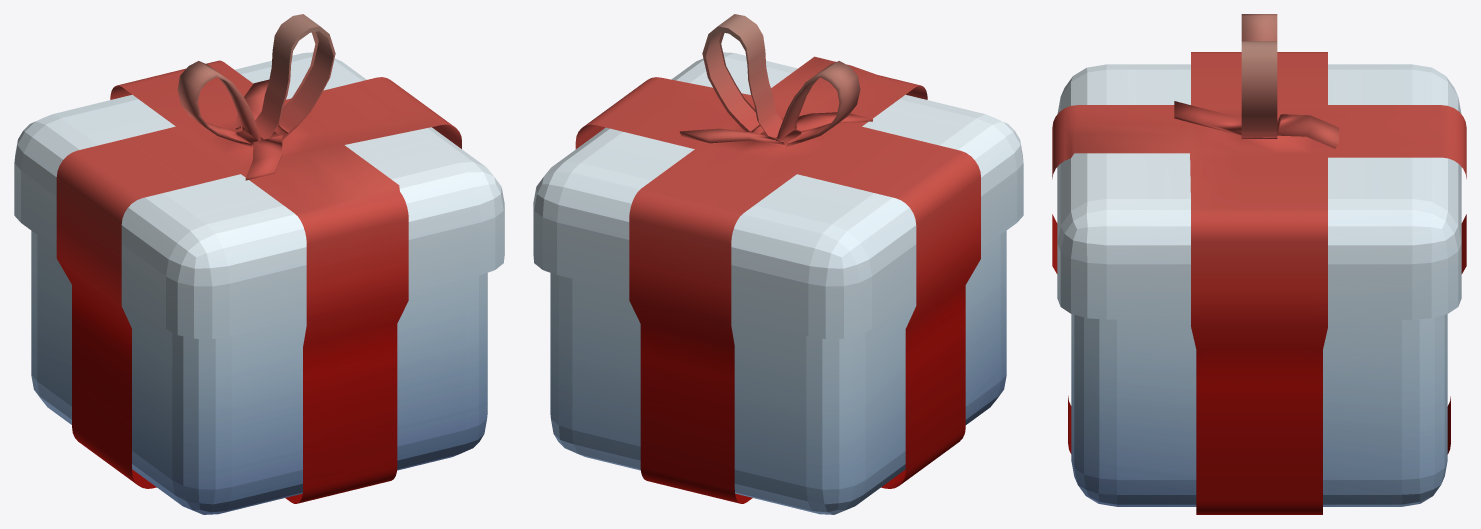
File: Geschenk_1.fbx
3 renders of one model, left to right at view 1: azimuth 30°, elevation 25°; view 2: azimuth 150°, elevation 25°; view 3: azimuth 270°, elevation 25°, orthographic. The views are drawn at different scales.
Visible parts, largest first — view 1: line; view 2: line; view 3: line.
Part boxes in pixels (box(x1,y1,x2,y2)): line: box(14, 14, 504, 514); line: box(533, 14, 1023, 514); line: box(1052, 14, 1466, 514).
Size of the model in its own units: 220 by 248 by 220.
1 material, 1 textured.
